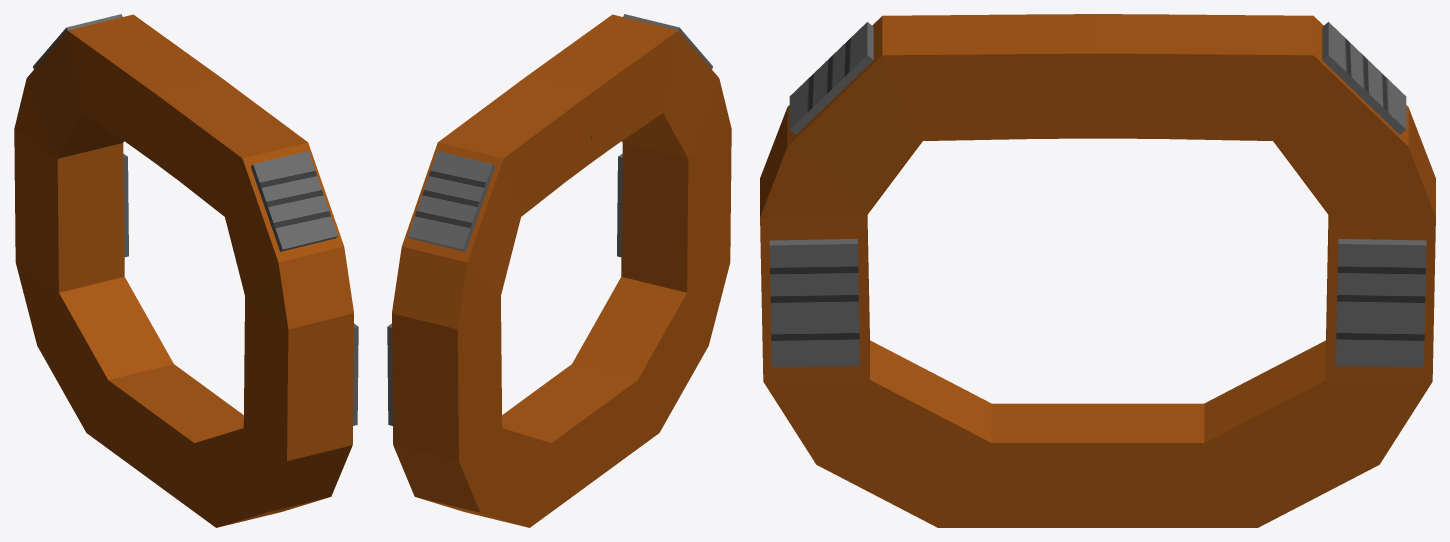
The model's file is Portal.fbx.
3 views of the same model, side by side, from view 1: azimuth 30°, elevation 25°; view 2: azimuth 150°, elevation 25°; view 3: azimuth 270°, elevation 25° (orthographic). The views are drawn at different scales.
Visible parts, largest first — view 1: Cubo; view 2: Cubo; view 3: Cubo.
Part boxes in pixels (bbox=[...]): Cubo: bbox=[14, 14, 358, 527]; Cubo: bbox=[387, 14, 731, 527]; Cubo: bbox=[760, 14, 1435, 527].
Size of the model in its own units: 226 by 1123 by 1443.
